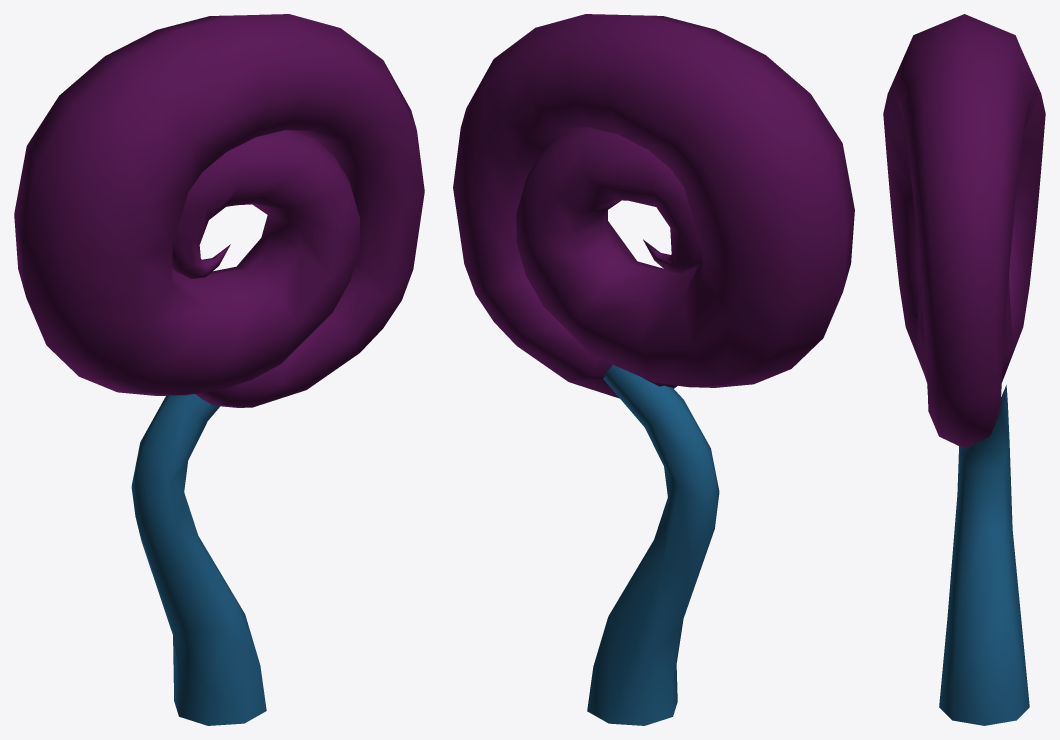
The model's file is tree-swirl-2.glb.
3 views of the same model, side by side, from view 1: azimuth 30°, elevation 25°; view 2: azimuth 150°, elevation 25°; view 3: azimuth 270°, elevation 25° (orthographic). The views are drawn at different scales.
Parts seen in each view (by area): view 1: Tree_Swirl_2; view 2: Tree_Swirl_2; view 3: Tree_Swirl_2.
Part boxes in pixels (bbox=[...]): Tree_Swirl_2: bbox=[14, 14, 424, 725]; Tree_Swirl_2: bbox=[453, 14, 854, 725]; Tree_Swirl_2: bbox=[883, 14, 1045, 725].
Size of the model in its own units: 3.07 by 5.15 by 1.15.
